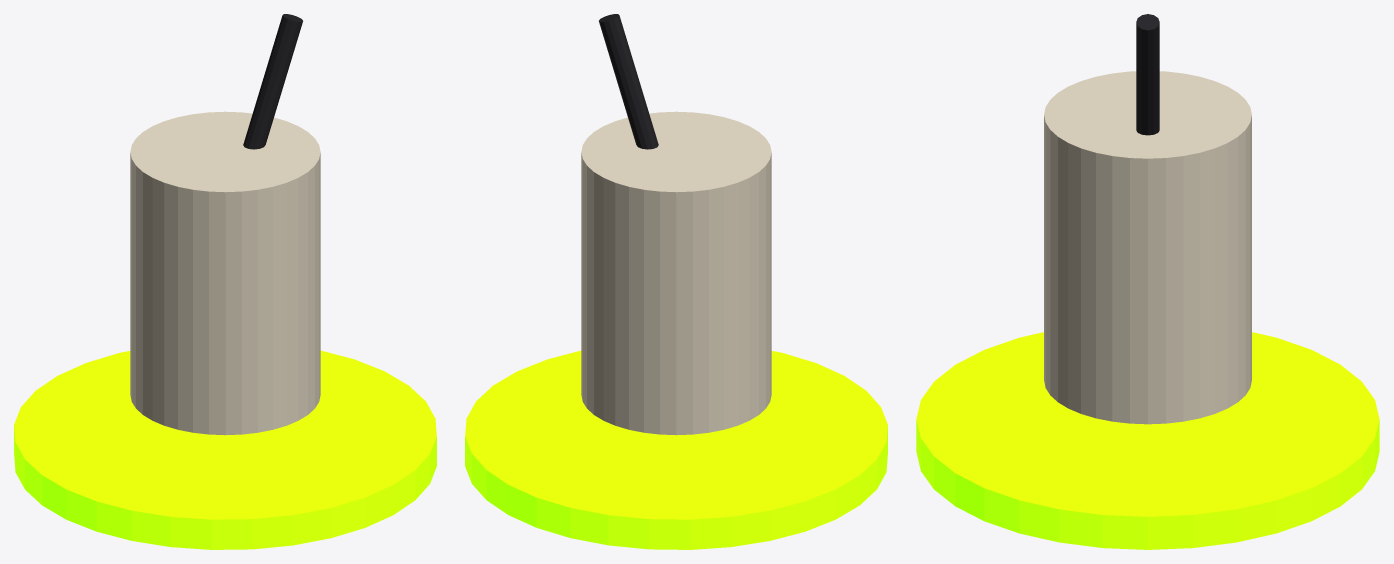
File: food_boba_tea.glb
The picture shows the model from 3 angles, left to right: view 1: azimuth 30°, elevation 25°; view 2: azimuth 150°, elevation 25°; view 3: azimuth 270°, elevation 25°; orthographic projection. The views are drawn at different scales.
Parts seen in each view (by area): view 1: 01_12_Popular_Food_Boba_Tea_part_01, 01_12_Popular_Food_Boba_Tea_ROOT_base, 01_12_Popular_Food_Boba_Tea_part_02; view 2: 01_12_Popular_Food_Boba_Tea_part_01, 01_12_Popular_Food_Boba_Tea_ROOT_base, 01_12_Popular_Food_Boba_Tea_part_02; view 3: 01_12_Popular_Food_Boba_Tea_part_01, 01_12_Popular_Food_Boba_Tea_ROOT_base, 01_12_Popular_Food_Boba_Tea_part_02.
Part boxes in pixels (x1,y1,x2,y2): 01_12_Popular_Food_Boba_Tea_part_01: (130, 111, 320, 435); 01_12_Popular_Food_Boba_Tea_ROOT_base: (14, 350, 436, 549); 01_12_Popular_Food_Boba_Tea_part_02: (243, 14, 302, 149); 01_12_Popular_Food_Boba_Tea_part_01: (581, 111, 771, 435); 01_12_Popular_Food_Boba_Tea_ROOT_base: (465, 350, 887, 549); 01_12_Popular_Food_Boba_Tea_part_02: (599, 14, 658, 149); 01_12_Popular_Food_Boba_Tea_part_01: (1044, 71, 1251, 424); 01_12_Popular_Food_Boba_Tea_ROOT_base: (916, 332, 1379, 549); 01_12_Popular_Food_Boba_Tea_part_02: (1136, 14, 1159, 135).
Bounding box in the file's own units: 0.76 × 0.85 × 0.76.
